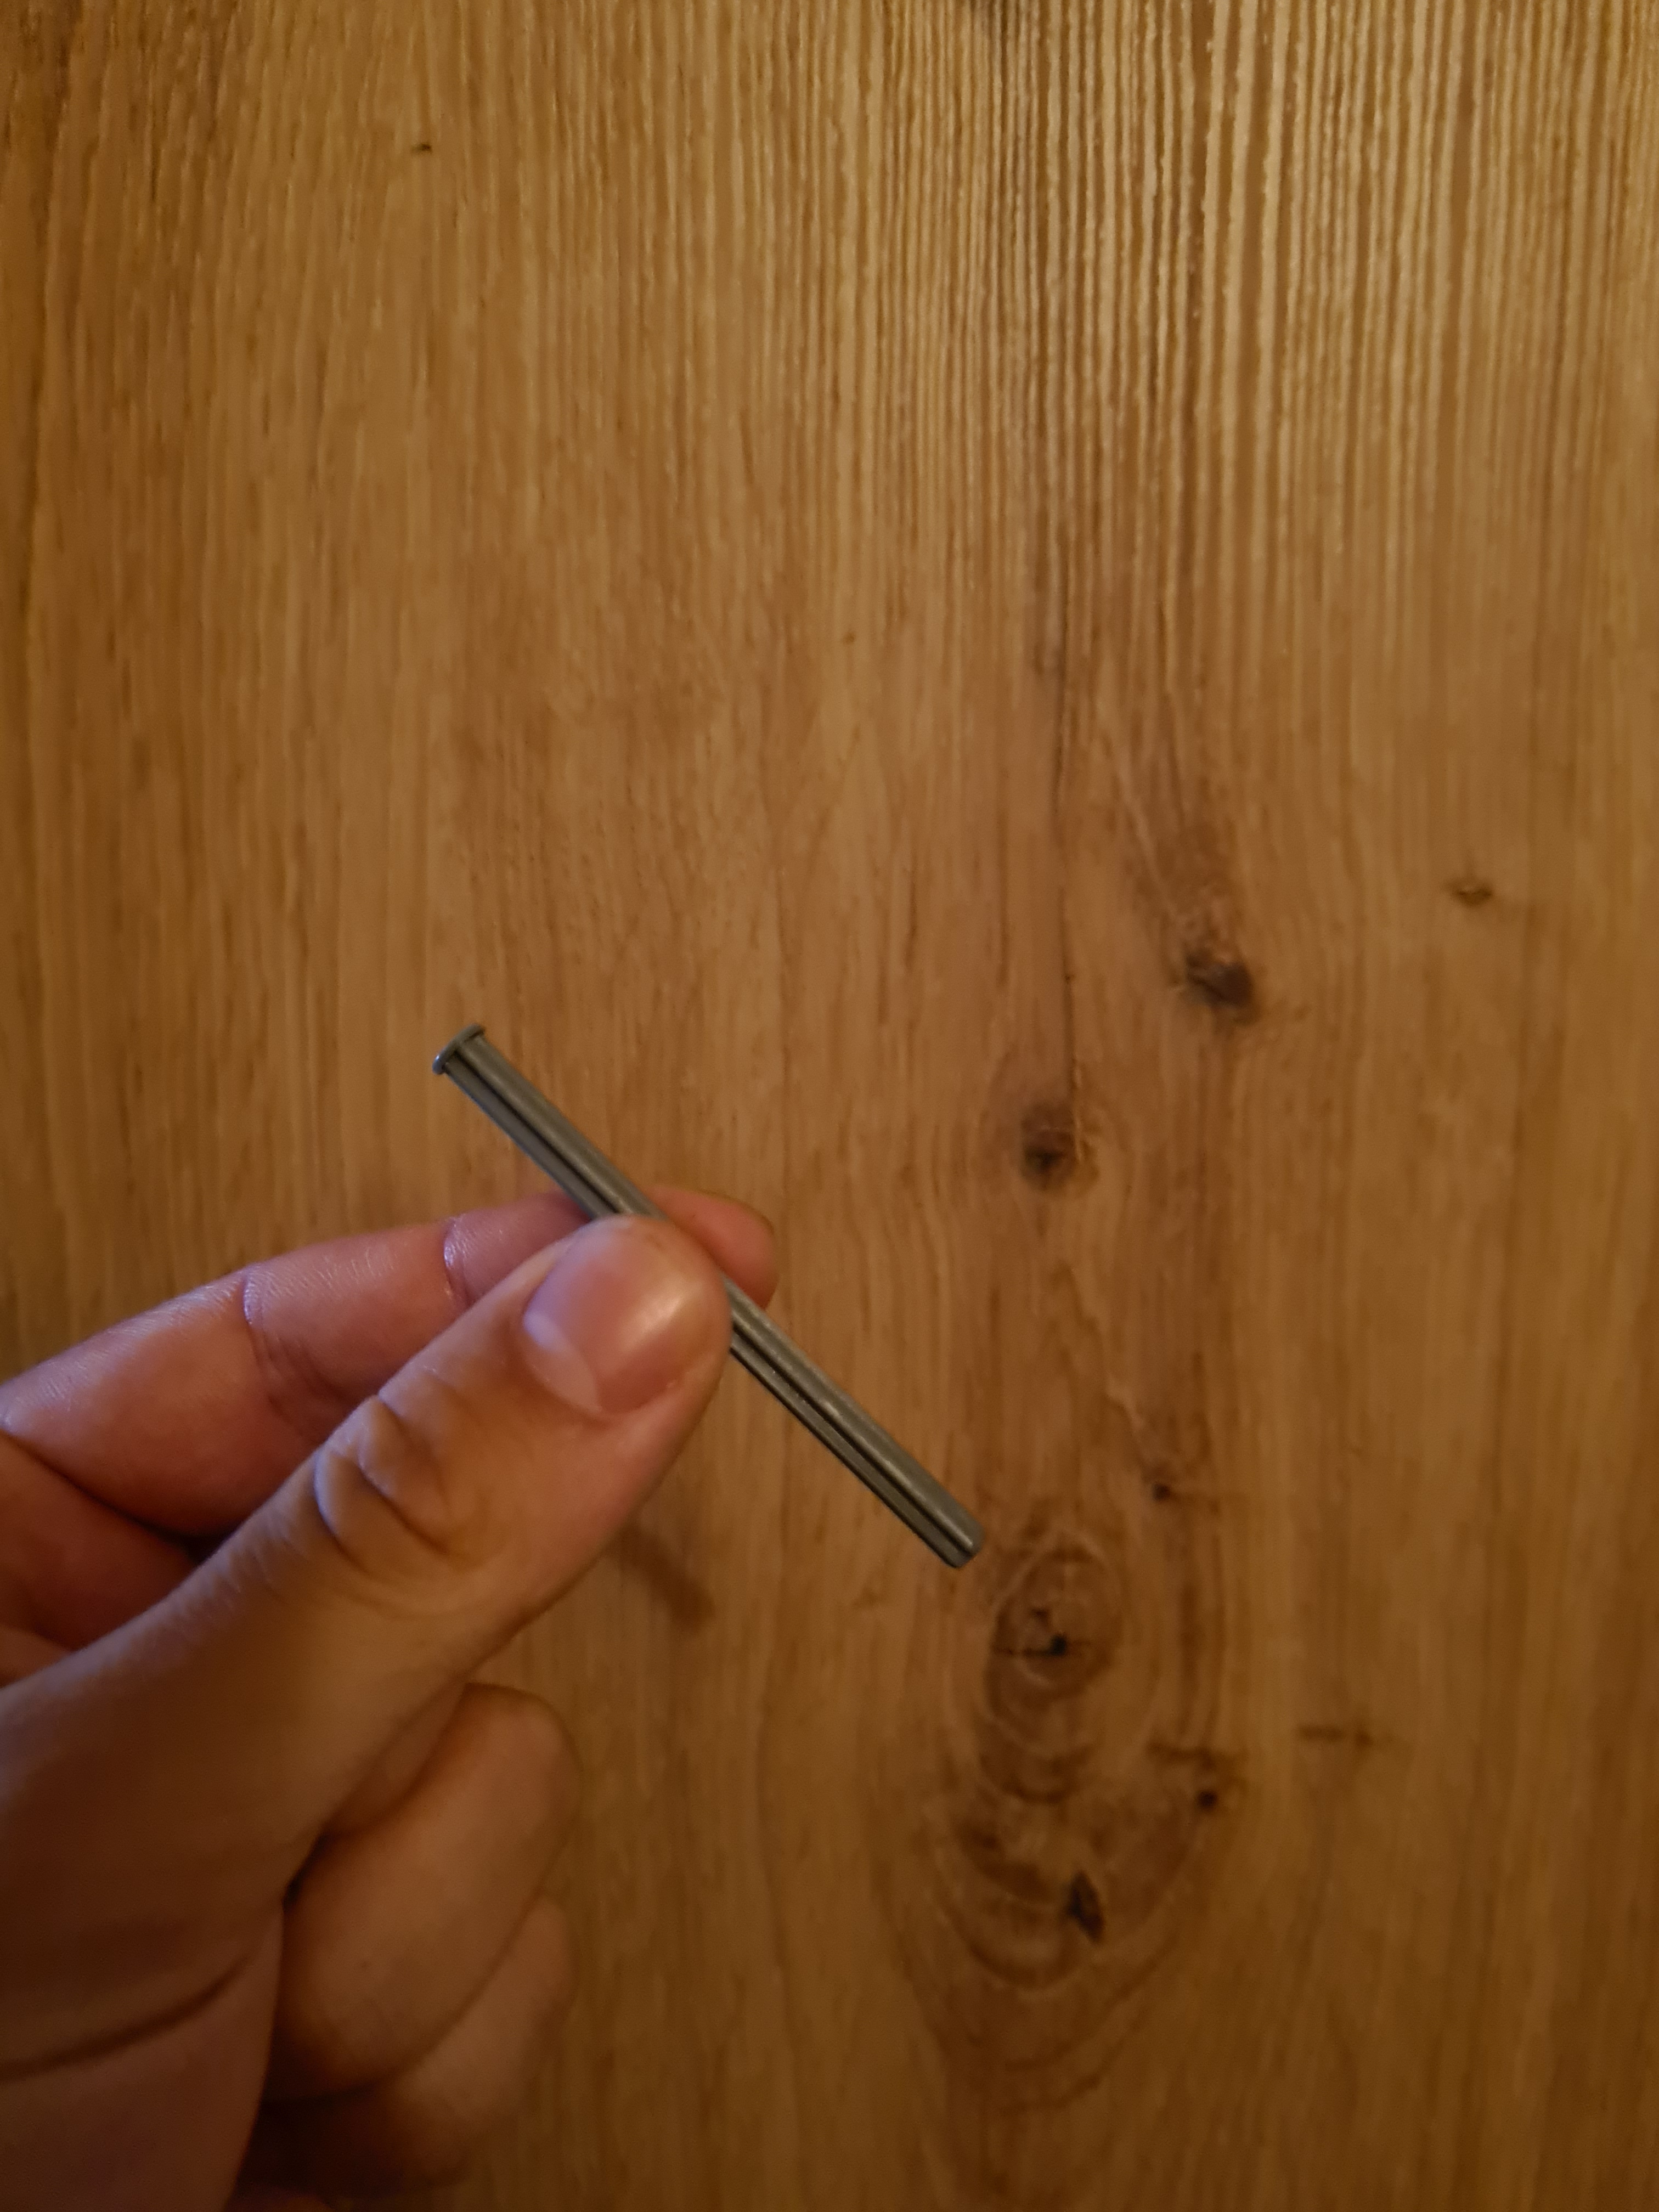Grau_lang: (415, 981, 1016, 1629)
